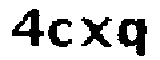4: (9, 2, 48, 55)
c: (47, 15, 75, 49)
q: (117, 16, 151, 60)
x: (75, 13, 115, 52)
